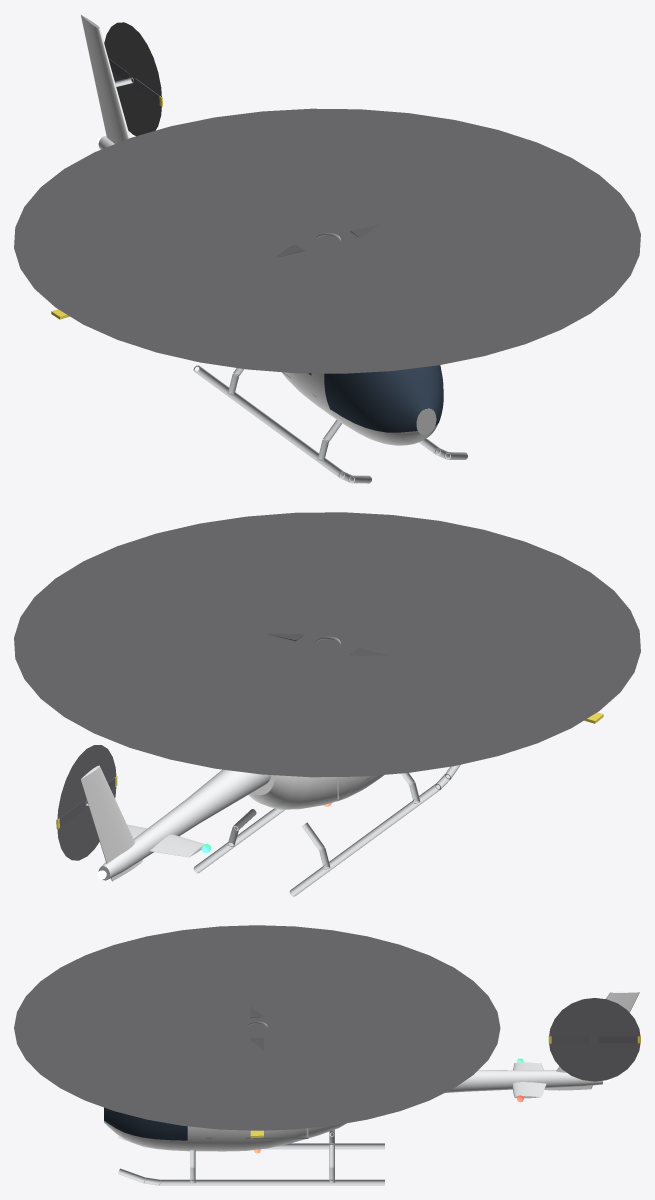
The picture shows the model from 3 angles, top to bottom: view 1: azimuth 30°, elevation 25°; view 2: azimuth 150°, elevation 25°; view 3: azimuth 270°, elevation 25°; orthographic projection. The views are drawn at different scales.
Parts seen in each view (by area): view 1: airframe; view 2: airframe, rotor; view 3: airframe, tail, rotor.
Part boxes in pixels (left/top/right/bottom): airframe: left=14, top=15, right=640, bottom=483; airframe: left=14, top=512, right=640, bottom=896; rotor: left=265, top=633, right=603, bottom=723; airframe: left=14, top=925, right=640, bottom=1185; tail: left=548, top=1036, right=640, bottom=1043; rotor: left=247, top=1006, right=267, bottom=1138.
Bounding box in the file's own units: 14 × 5.65 × 18.04.
